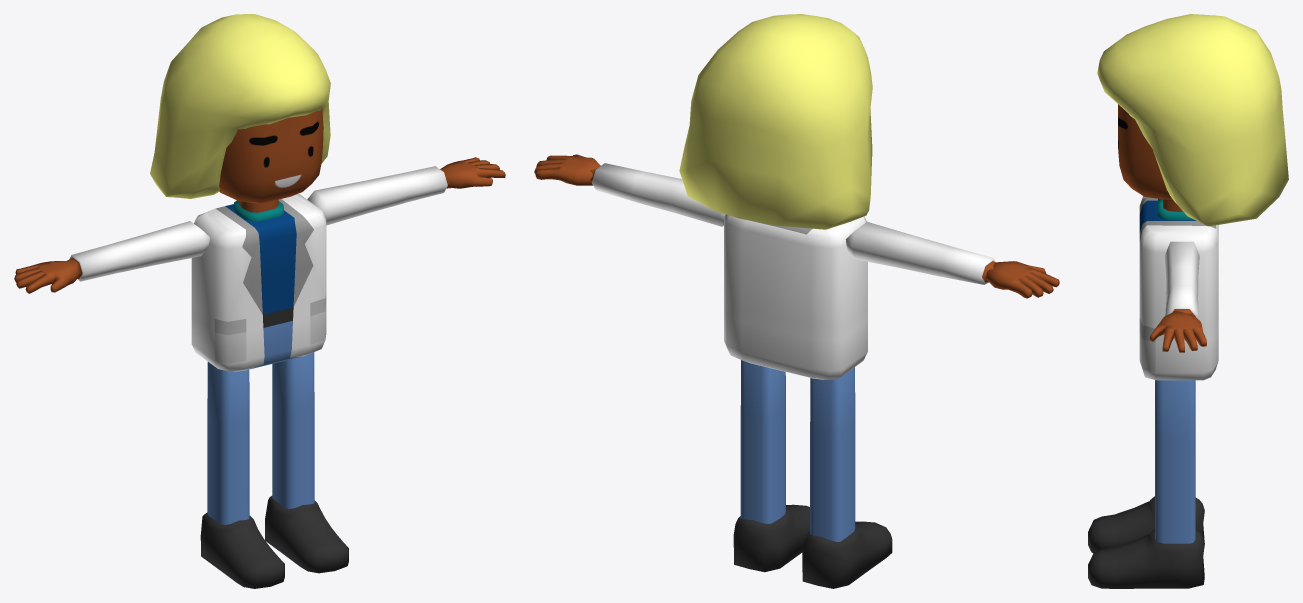
The model's file is NPC_Yellow01_BlondeHair04.gltf.
3 renders of one model, left to right at view 1: azimuth 30°, elevation 25°; view 2: azimuth 150°, elevation 25°; view 3: azimuth 270°, elevation 25°, orthographic. The views are drawn at different scales.
Visible parts, largest first — view 1: NPC_Corpo_Yellow1_BlondeHair.004; view 2: NPC_Corpo_Yellow1_BlondeHair.004; view 3: NPC_Corpo_Yellow1_BlondeHair.004.
Boxes of the visible parts, <box> form: NPC_Corpo_Yellow1_BlondeHair.004: <box>14,14,505,588</box>; NPC_Corpo_Yellow1_BlondeHair.004: <box>534,14,1059,588</box>; NPC_Corpo_Yellow1_BlondeHair.004: <box>1088,14,1288,588</box>.
Bounding box in the file's own units: 2.31 × 2.37 × 0.7967.
Materials: 1 (1 with a texture image).
